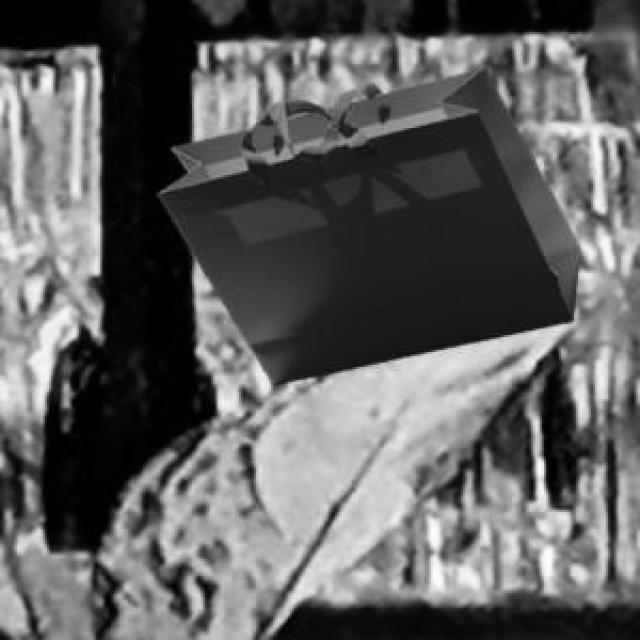paper: (154, 64, 576, 380)
